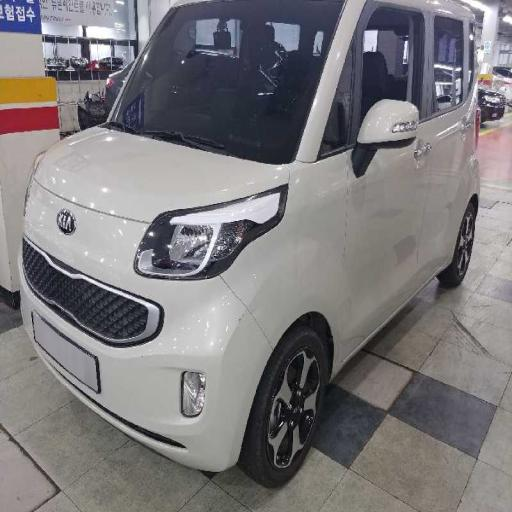normal: (38, 12, 482, 481)
